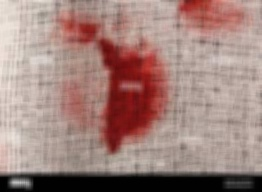blood: (101, 42, 167, 150), (176, 1, 222, 28), (63, 18, 99, 47)
